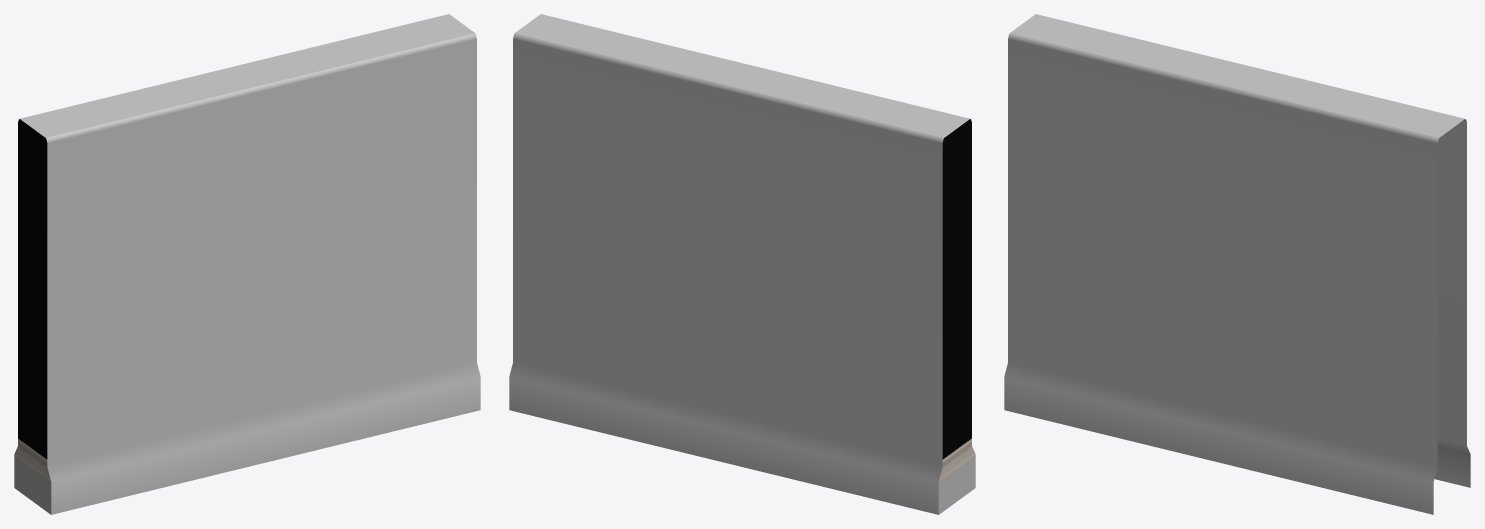
Rendered from transparent-wall-with-end-mesh.fbx.
3 renders of one model, left to right at view 1: azimuth 30°, elevation 25°; view 2: azimuth 150°, elevation 25°; view 3: azimuth 330°, elevation 25°, orthographic.
Visible parts, largest first — view 1: pCube27; view 2: pCube27; view 3: pCube27.
Boxes of the visible parts, <box> form: pCube27: <box>14,14,480,514</box>; pCube27: <box>509,14,975,514</box>; pCube27: <box>1004,14,1470,514</box>.
Bounding box in the file's own units: 4 × 3.32 × 0.5956.
